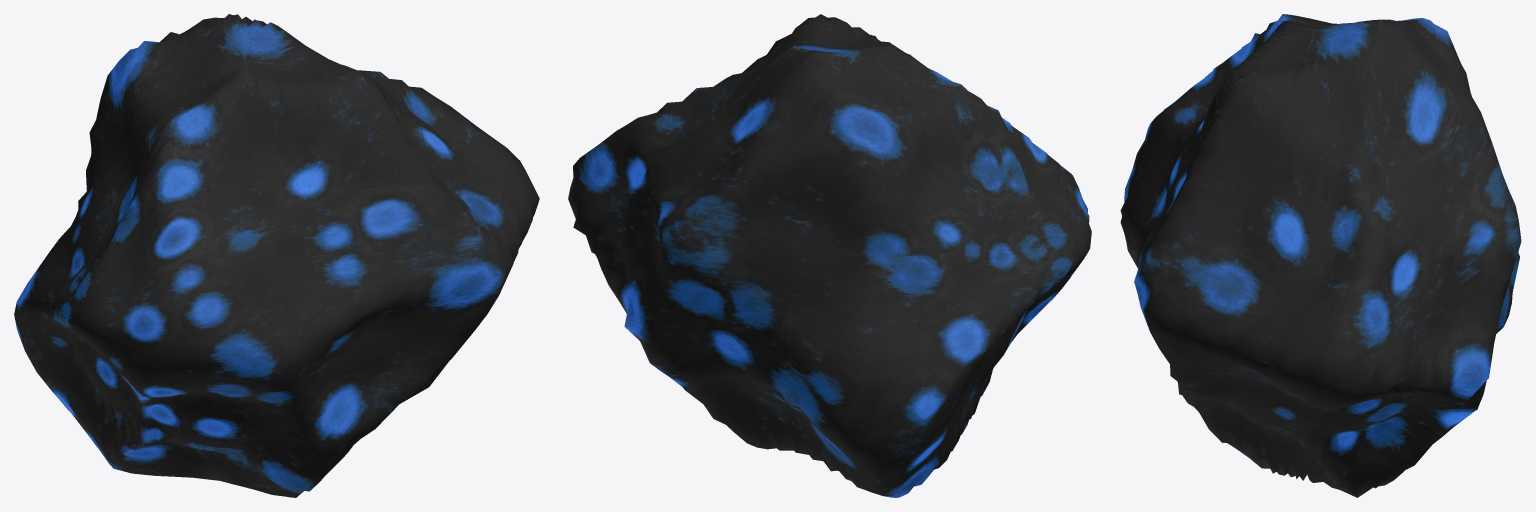
The model's file is asteroid4.glb.
3 renders of one model, left to right at view 1: azimuth 30°, elevation 25°; view 2: azimuth 150°, elevation 25°; view 3: azimuth 270°, elevation 25°, orthographic. The views are drawn at different scales.
Visible parts, largest first — view 1: Asteroid_4_Blue_0; view 2: Asteroid_4_Blue_0; view 3: Asteroid_4_Blue_0.
Boxes of the visible parts, x1,y1,x2,y2 form: Asteroid_4_Blue_0: (14, 14, 539, 497); Asteroid_4_Blue_0: (568, 14, 1091, 497); Asteroid_4_Blue_0: (1120, 14, 1521, 497).
Size of the model in its own units: 10.9 by 9.44 by 7.63.
Materials: 1 (1 with a texture image).
